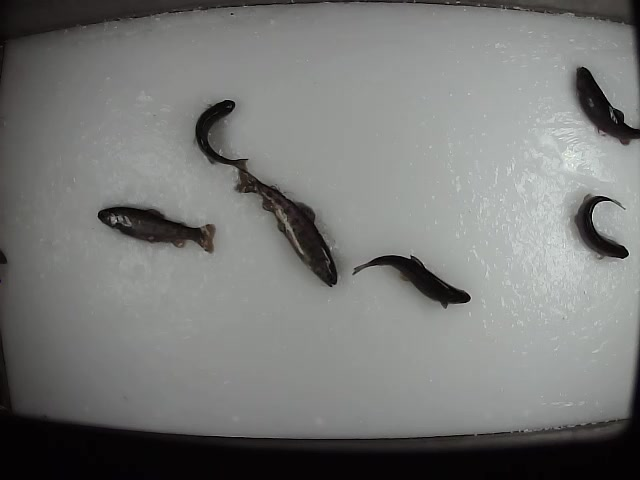fish: (231, 166, 341, 290), (348, 253, 473, 309), (94, 204, 218, 255), (573, 62, 640, 147), (191, 97, 254, 174), (572, 190, 632, 260)
